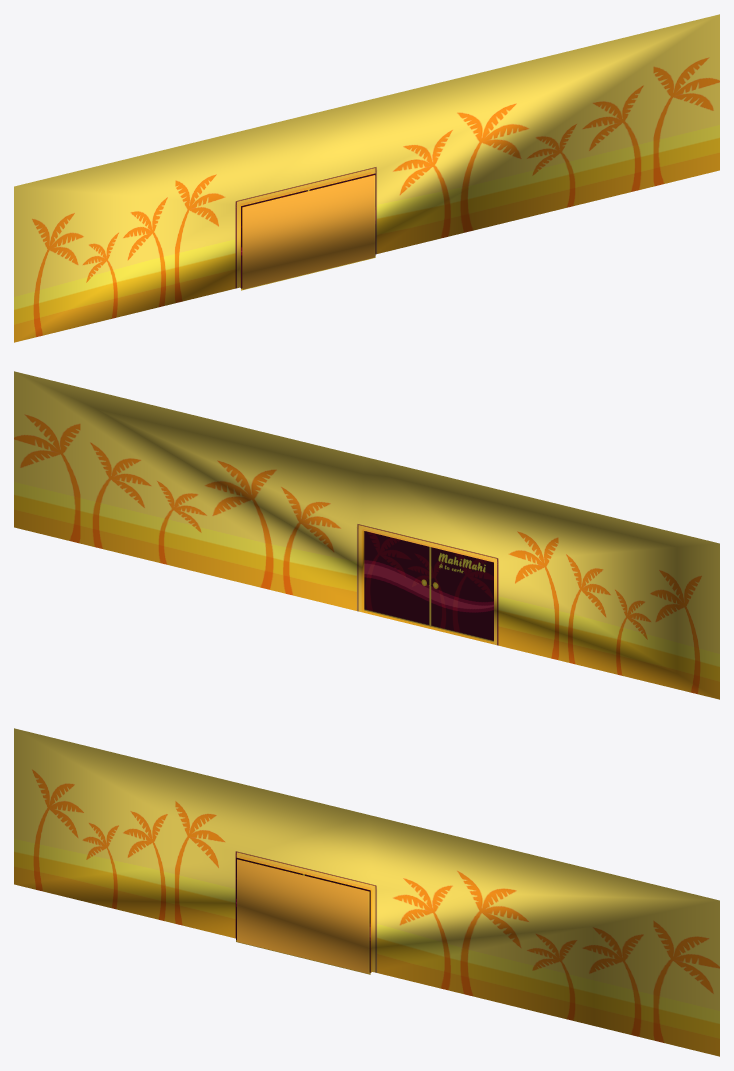
Rendered from restaurant_door_fix2.fbx.
3 views of the same model, one above another, from view 1: azimuth 30°, elevation 25°; view 2: azimuth 150°, elevation 25°; view 3: azimuth 330°, elevation 25° (orthographic).
Visible parts, largest first — view 1: WALLR, POISTA_MINUT:justrestaurantdoor:ravintolaovi; view 2: WALLR, POISTA_MINUT:justrestaurantdoor:ravintolaovi; view 3: WALLR, POISTA_MINUT:justrestaurantdoor:ravintolaovi.
Part boxes in pixels (box(x1,y1,x2,y2)): WALLR: box(14, 14, 719, 342); POISTA_MINUT:justrestaurantdoor:ravintolaovi: box(241, 173, 375, 290); WALLR: box(14, 371, 719, 699); POISTA_MINUT:justrestaurantdoor:ravintolaovi: box(364, 531, 493, 641); WALLR: box(14, 728, 719, 1056); POISTA_MINUT:justrestaurantdoor:ravintolaovi: box(236, 857, 370, 974).
Size of the model in its own units: 119 by 25.31 by 0.8652.
2 materials, 2 textured.
